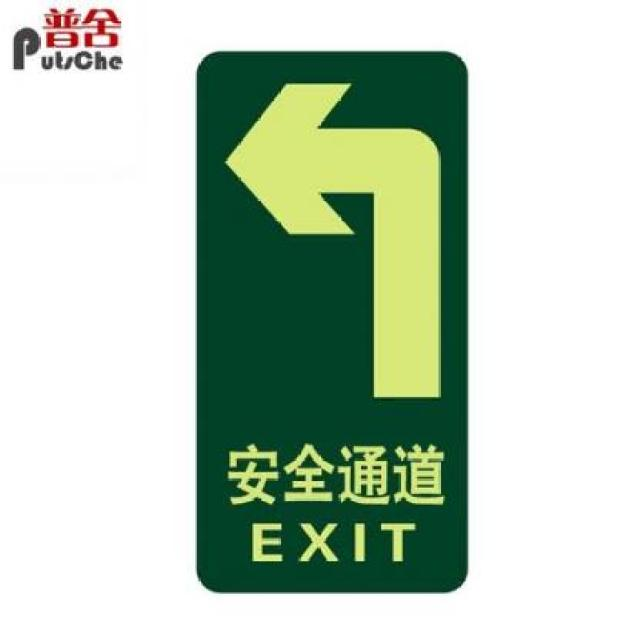exit_sign: (184, 40, 478, 598)
